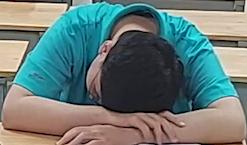Sleeping: (0, 0, 245, 143)
